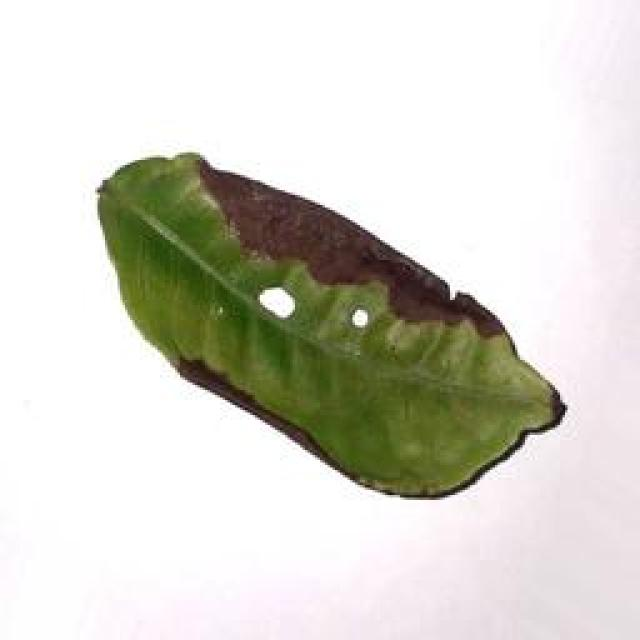Brown Blight: (90, 135, 564, 492)
